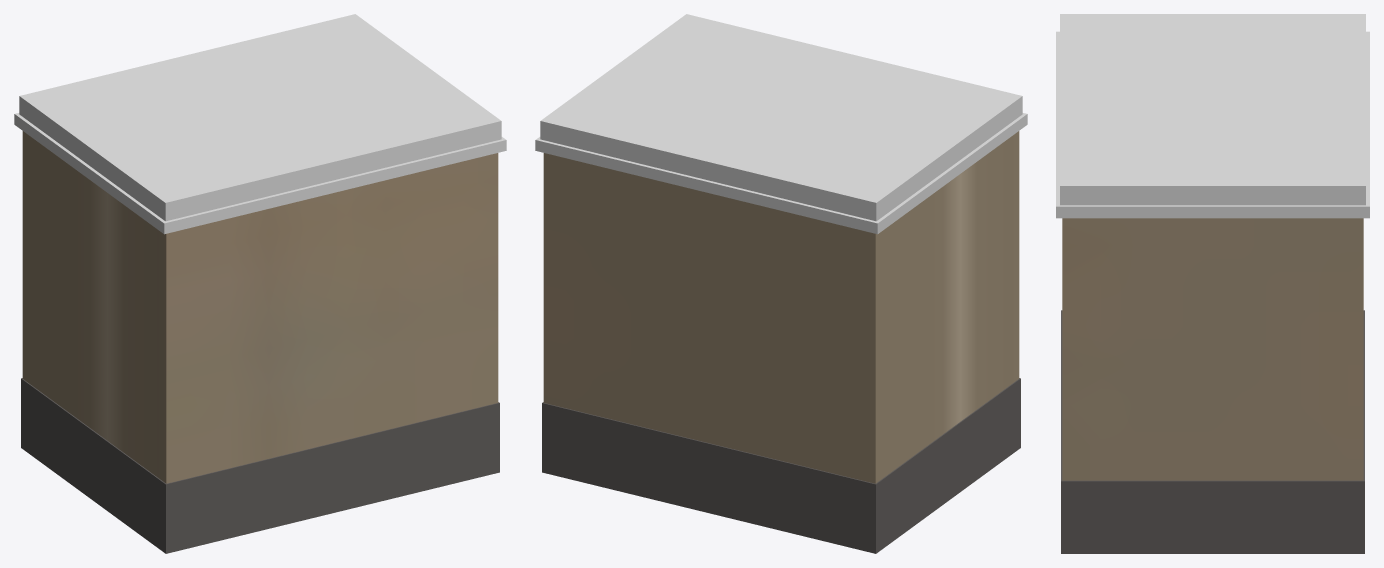
The model's file is bldg_sandstone.glb.
The picture shows the model from 3 angles, left to right: view 1: azimuth 30°, elevation 25°; view 2: azimuth 150°, elevation 25°; view 3: azimuth 270°, elevation 25°; orthographic projection. The views are drawn at different scales.
Visible parts, largest first — view 1: bldg_sandstone_body, bldg_sandstone_parapet, bldg_sandstone_store, bldg_sandstone_corn; view 2: bldg_sandstone_body, bldg_sandstone_parapet, bldg_sandstone_store, bldg_sandstone_corn; view 3: bldg_sandstone_body, bldg_sandstone_parapet, bldg_sandstone_store, bldg_sandstone_corn.
Part boxes in pixels (x1,y1,x2,y2): bldg_sandstone_body: (22,131,498,483); bldg_sandstone_parapet: (19,14,501,221); bldg_sandstone_store: (21,378,499,553); bldg_sandstone_corn: (14,113,506,234); bldg_sandstone_body: (543,131,1019,483); bldg_sandstone_parapet: (540,14,1022,221); bldg_sandstone_store: (542,378,1020,553); bldg_sandstone_corn: (535,113,1027,234); bldg_sandstone_body: (1062,218,1363,480); bldg_sandstone_parapet: (1060,14,1365,205); bldg_sandstone_store: (1061,310,1364,553); bldg_sandstone_corn: (1056,31,1369,218).
Bounding box in the file's own units: 16.5 × 16.2 × 12.5.
2 materials, 1 textured.
